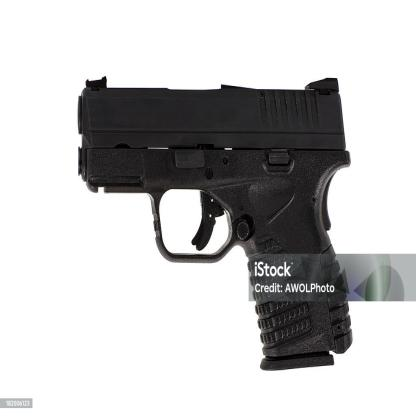handgun: (76, 74, 352, 376)
